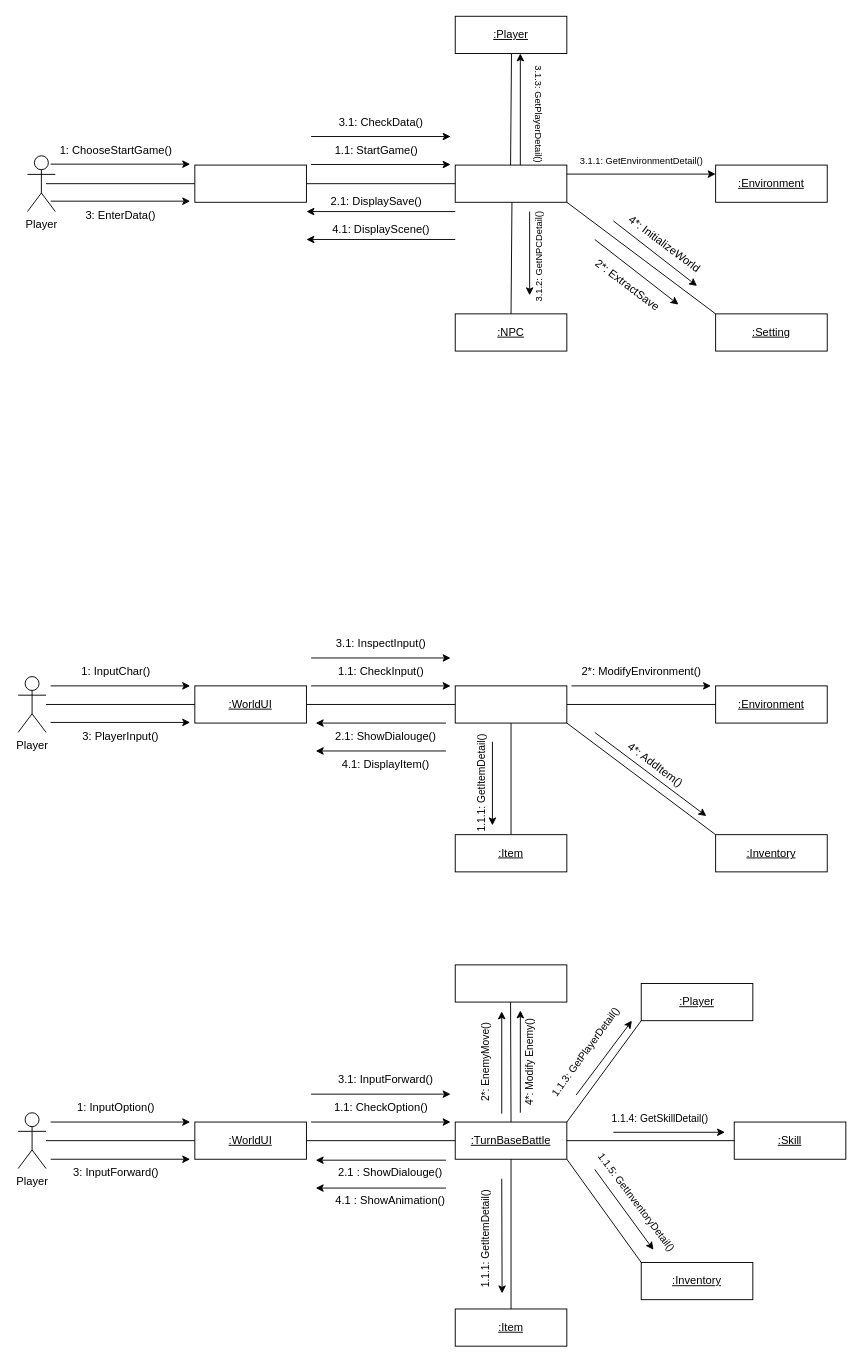
Some shapes in this 862 by 1362 pixel diagram are drawn without their labels. The shapes that lost their labels are listed below. From the top down, each one's centre as x and y in pixels, then its label:
pixel 250 183: :MainMenuUI
pixel 510 183: :Create Game
pixel 510 704: :WorldInteraction
pixel 510 983: :Enemy
